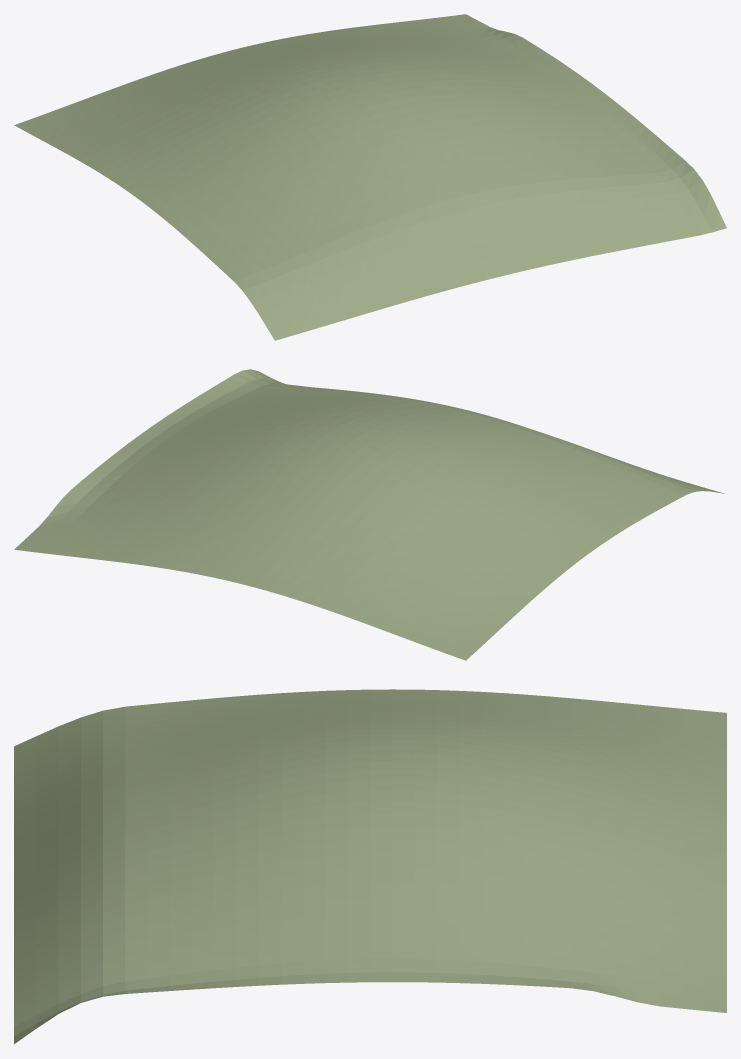
Rendered from railway-0-0.glb.
The picture shows the model from 3 angles, top to bottom: view 1: azimuth 30°, elevation 25°; view 2: azimuth 150°, elevation 25°; view 3: azimuth 270°, elevation 25°; orthographic projection. The views are drawn at different scales.
Visible parts, largest first — view 1: railway-0-0; view 2: railway-0-0; view 3: railway-0-0.
Part boxes in pixels (x1=…): railway-0-0: x1=14, y1=14, x2=726, y2=340; railway-0-0: x1=14, y1=369, x2=724, y2=660; railway-0-0: x1=14, y1=689, x2=726, y2=1044.
Bounding box in the file's own units: 128 × 25.19 × 128.
